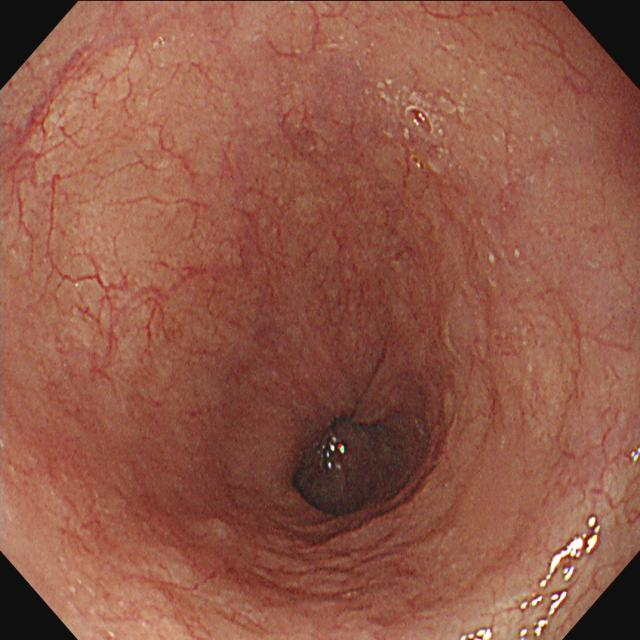E: (292, 401, 434, 518)
T: (404, 106, 438, 136)
U: (520, 517, 603, 640), (454, 626, 500, 640)
